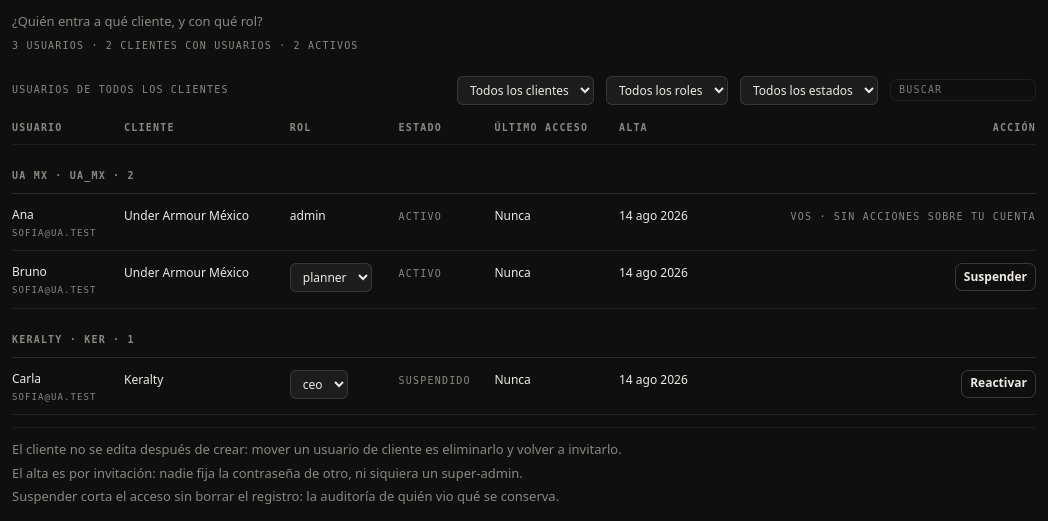
organizados por cliente › los filtros de rol y de estado también filtran
The width and height of the screenshot is (1048, 521).
Select "Suspendidos" in the dropdown named "Estado". click: (809, 90)
box: [740,76,878,104]
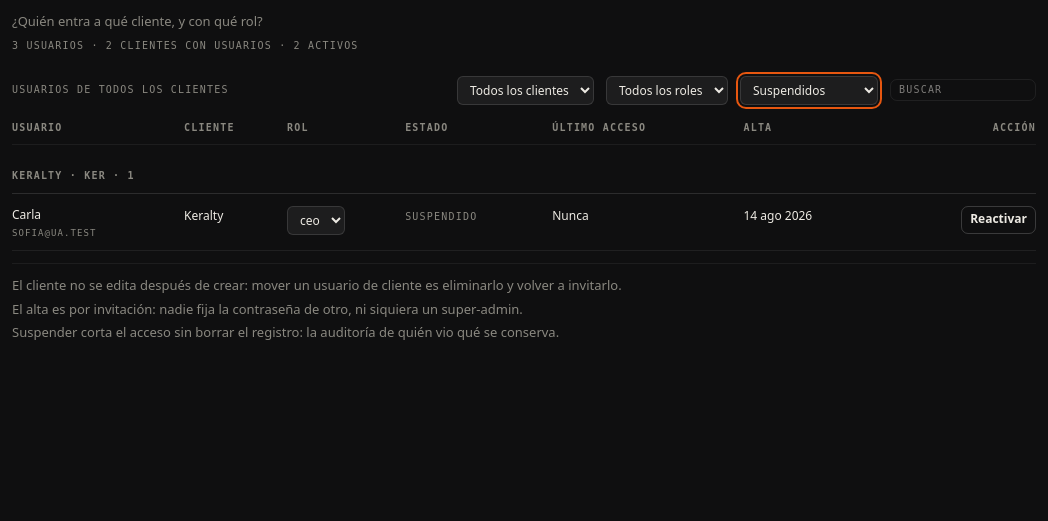
Expected: the text "Carla" is shown, [12,206,41,222]
Expected: the text "Bruno" is gone
Select "Todos los estados" in the dropdown named "Estado". click: (809, 90)
box: [740,76,878,104]
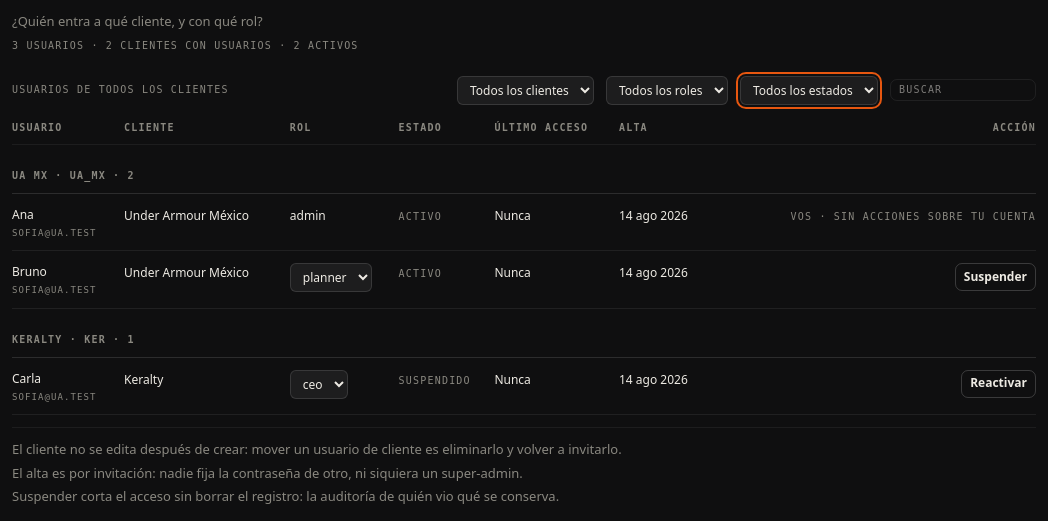
Select "planner" in the dropdown named "Rol". click: (667, 90)
box: [606,76,728,104]
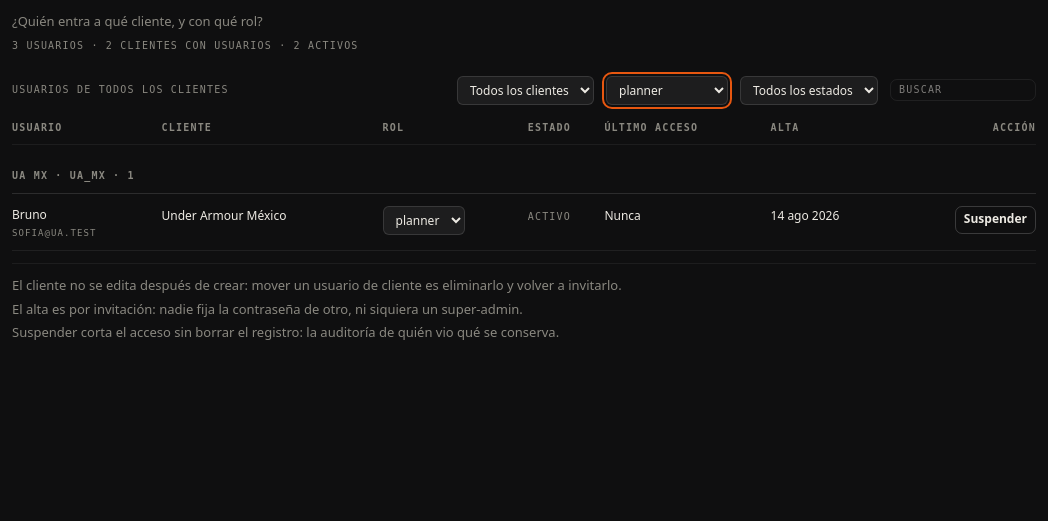
Expected: the text "Bruno" is shown, [12,206,47,222]
Expected: the text "Carla" is gone
